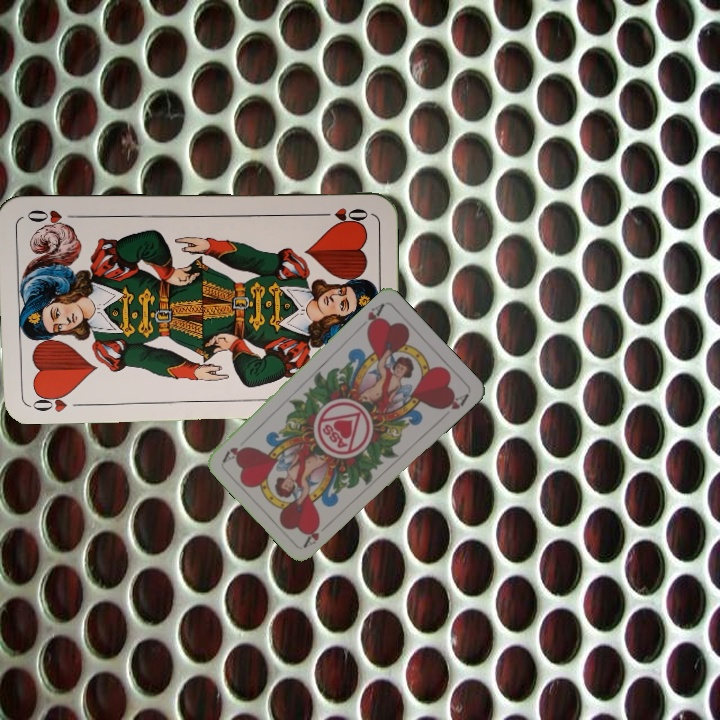HA: (300, 518, 333, 550), (362, 299, 387, 335)
HO: (25, 388, 74, 415), (312, 204, 370, 226)
